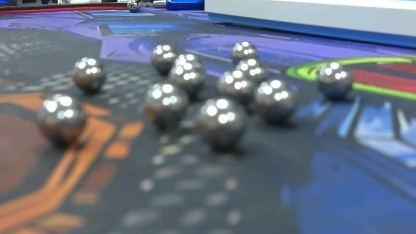ironball: (30, 87, 88, 147), (203, 97, 250, 147), (140, 77, 184, 126), (312, 60, 354, 100), (256, 80, 294, 118), (213, 67, 249, 101), (73, 56, 103, 90), (142, 33, 170, 69), (176, 63, 206, 93), (225, 34, 257, 60), (168, 48, 200, 73), (235, 59, 263, 82)
